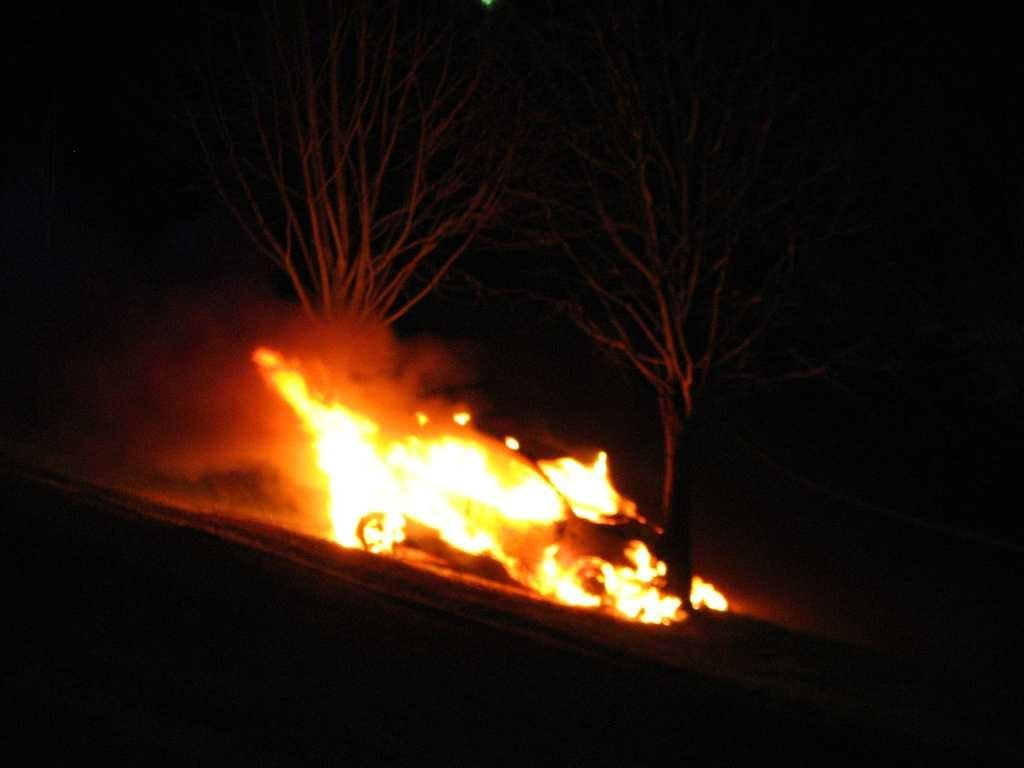fire: (340, 448, 613, 546)
